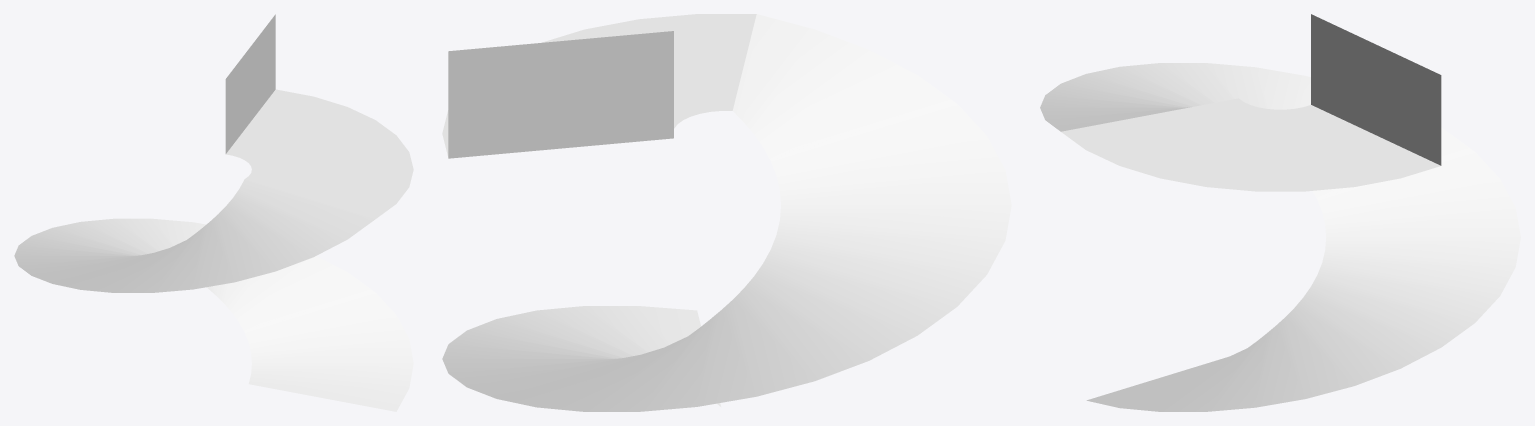
File: Spiral_Stair_Rm_Stair_Top_Coll.fbx
The picture shows the model from 3 angles, left to right: view 1: azimuth 30°, elevation 25°; view 2: azimuth 150°, elevation 25°; view 3: azimuth 270°, elevation 25°; orthographic projection. The views are drawn at different scales.
Parts seen in each view (by area): view 1: P_Spiral_Stair_Rm_Top_Coll; view 2: P_Spiral_Stair_Rm_Top_Coll; view 3: P_Spiral_Stair_Rm_Top_Coll.
Boxes of the visible parts, x1,y1,x2,y2 form: P_Spiral_Stair_Rm_Top_Coll: (14, 14, 413, 411); P_Spiral_Stair_Rm_Top_Coll: (442, 14, 1011, 411); P_Spiral_Stair_Rm_Top_Coll: (1040, 14, 1520, 411).
Size of the model in its own units: 9.96 by 7.84 by 10.01.
